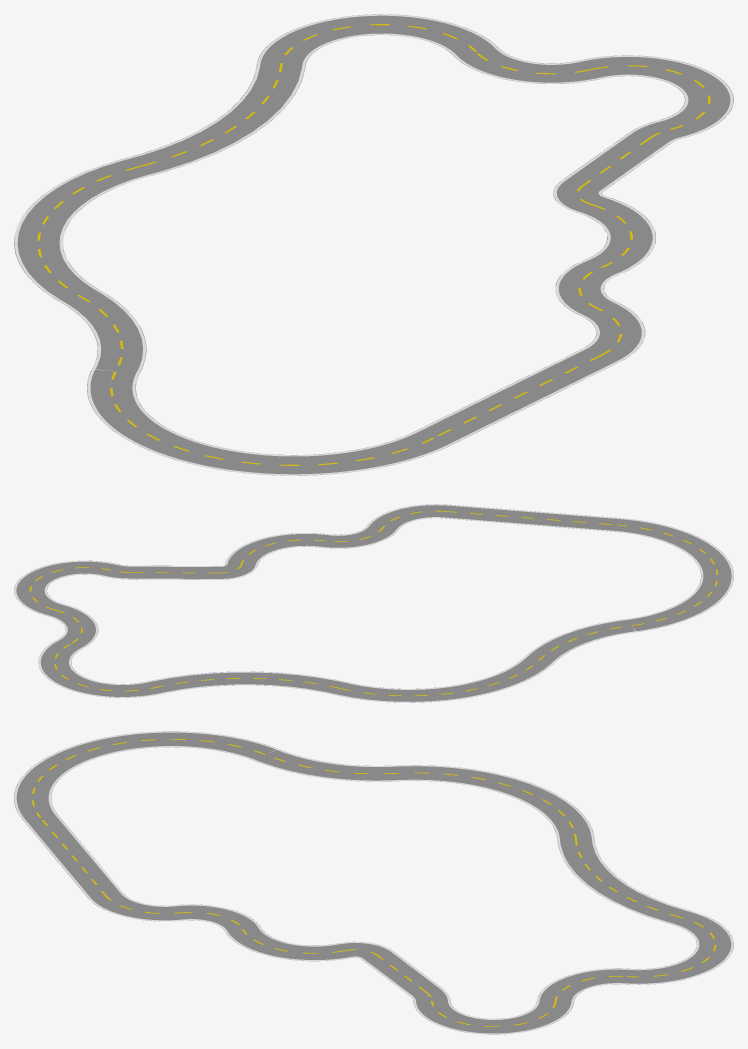
Rendered from track3.fbx.
3 renders of one model, top to bottom at view 1: azimuth 30°, elevation 25°; view 2: azimuth 150°, elevation 25°; view 3: azimuth 270°, elevation 25°, orthographic. The views are drawn at different scales.
Visible parts, largest first — view 1: road_arc_65, road_arc_61, road_arc_60, road_arc_59, road_straight_64, road_arc_56, road_arc_62, road_arc_52, road_arc_58, road_straight_54, road_arc_50, road_arc_51 (+1 smaller); view 2: road_arc_65, road_arc_61, road_arc_60, road_arc_59, road_straight_64, road_arc_56, road_arc_62, road_arc_52, road_arc_58, road_straight_54, road_arc_50, road_arc_51 (+1 smaller); view 3: road_arc_65, road_arc_61, road_arc_60, road_arc_59, road_straight_64, road_arc_56, road_arc_62, road_arc_52, road_arc_58, road_straight_54, road_arc_50, road_arc_51 (+1 smaller).
Boxes of the visible parts, x1,y1,x2,y2 form: road_arc_65: [87, 369, 451, 475]; road_arc_61: [14, 158, 152, 302]; road_arc_60: [127, 64, 305, 175]; road_arc_59: [257, 14, 498, 65]; road_straight_64: [415, 348, 619, 444]; road_arc_56: [579, 55, 733, 138]; road_arc_62: [61, 290, 146, 373]; road_arc_52: [577, 196, 655, 274]; road_arc_58: [453, 48, 600, 83]; road_straight_54: [561, 133, 670, 191]; road_arc_50: [581, 301, 645, 361]; road_arc_51: [555, 260, 617, 315]; road_arc_65: [614, 518, 733, 631]; road_arc_61: [333, 657, 554, 702]; road_arc_60: [146, 671, 348, 694]; road_arc_59: [38, 640, 160, 697]; road_straight_64: [443, 504, 619, 531]; road_arc_56: [14, 560, 118, 615]; road_arc_62: [525, 619, 635, 661]; road_arc_52: [225, 533, 329, 565]; road_arc_58: [48, 604, 98, 648]; road_straight_54: [130, 565, 219, 579]; road_arc_50: [367, 504, 448, 529]; road_arc_51: [320, 526, 398, 548]; road_arc_65: [14, 731, 277, 820]; road_arc_61: [394, 765, 594, 839]; road_arc_60: [557, 839, 689, 923]; road_arc_59: [624, 910, 733, 984]; road_straight_64: [23, 815, 122, 898]; road_arc_56: [413, 1001, 573, 1034]; road_arc_62: [253, 749, 397, 781]; road_arc_52: [225, 927, 352, 961]; road_arc_58: [537, 968, 629, 1001]; road_straight_54: [361, 951, 441, 995]; road_arc_50: [88, 893, 183, 921]; road_arc_51: [175, 904, 260, 931].
Size of the model in its own units: 14506 by 0.00475 by 14556.
